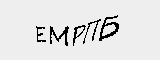Б: (96, 12, 122, 42)
Е: (34, 24, 48, 44)
М: (47, 24, 69, 48)
П: (80, 17, 100, 46)
Р: (69, 24, 86, 47)
